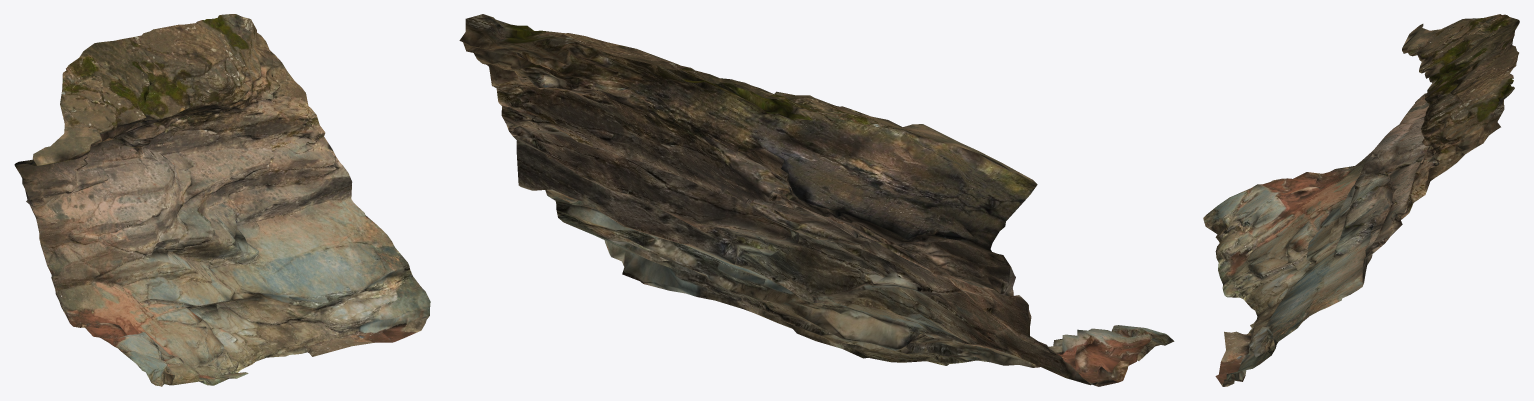
The picture shows the model from 3 angles, left to right: view 1: azimuth 30°, elevation 25°; view 2: azimuth 150°, elevation 25°; view 3: azimuth 270°, elevation 25°; orthographic projection. The views are drawn at different scales.
Visible parts, largest first — view 1: rock_face_01; view 2: rock_face_01; view 3: rock_face_01.
Part boxes in pixels (x1,y1,x2,y2): rock_face_01: (14, 14, 430, 386); rock_face_01: (459, 14, 1174, 386); rock_face_01: (1203, 14, 1519, 386).
Bounding box in the file's own units: 4.95 × 3.56 × 3.82.
Materials: 1 (1 with a texture image).
